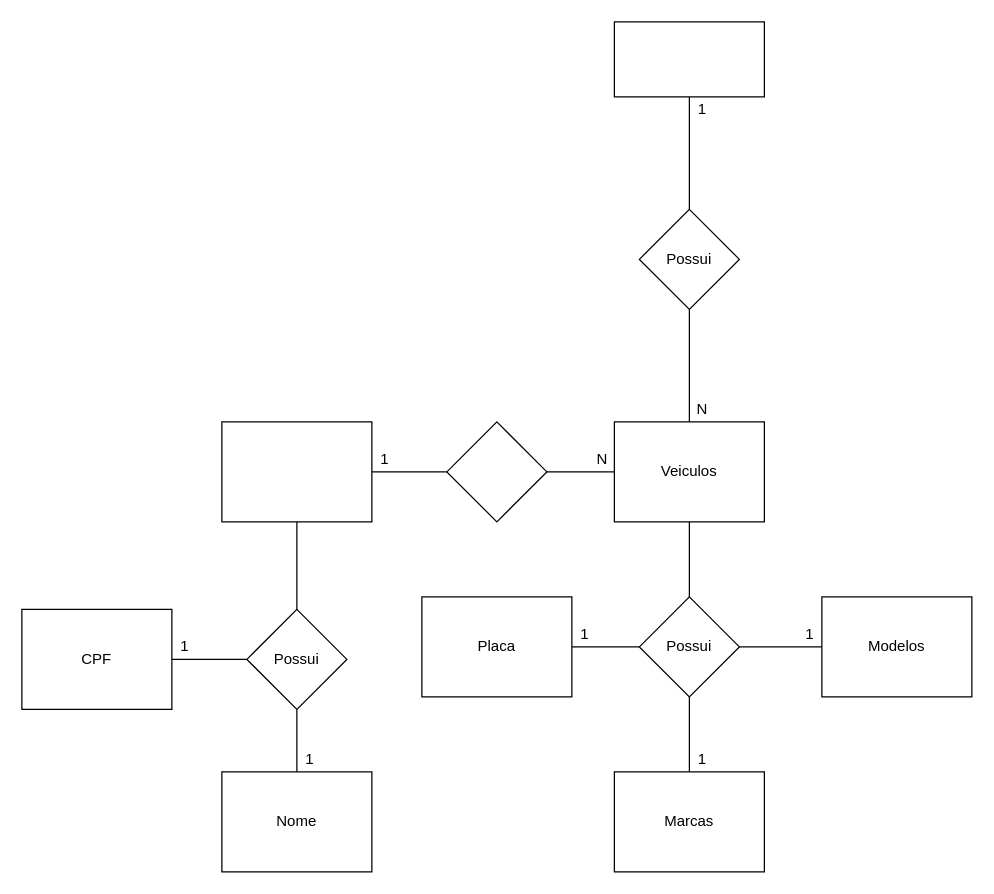
Image size: 994x894. Some labels were removed from this diagram. Here are the shapes that lost their labels. From the top down, the centre of each, then its label:
(x=688, y=59): Empresas
(x=296, y=471): Clientes
(x=496, y=471): Aluga
